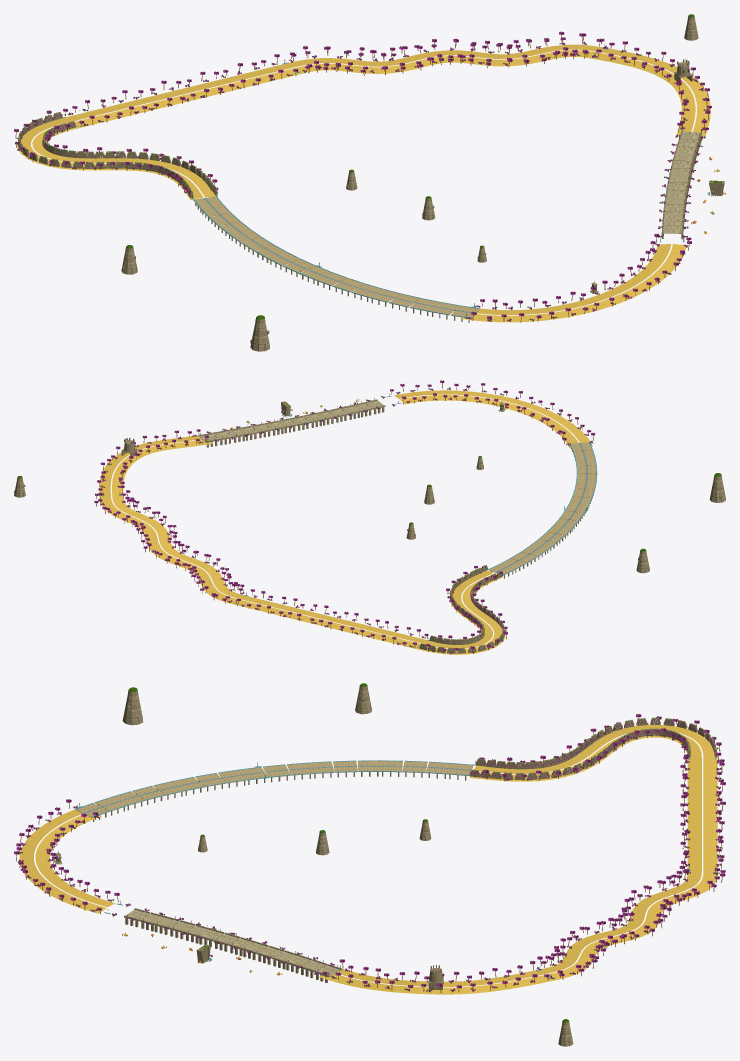
File: painted.glb
The picture shows the model from 3 angles, top to bottom: view 1: azimuth 30°, elevation 25°; view 2: azimuth 150°, elevation 25°; view 3: azimuth 270°, elevation 25°; orthographic projection. The views are drawn at different scales.
Visible parts, largest first — view 1: DI_STATIC_DI_MAT_jungle, DI_STATIC_DI_MAT_concrete, DI_STATIC_DI_MAT_jungle-card, DI_STATIC_DI_MAT_metal; view 2: DI_STATIC_DI_MAT_jungle, DI_STATIC_DI_MAT_concrete, DI_STATIC_DI_MAT_jungle-card, DI_STATIC_DI_MAT_metal; view 3: DI_STATIC_DI_MAT_jungle, DI_STATIC_DI_MAT_concrete, DI_STATIC_DI_MAT_jungle-card, DI_STATIC_DI_MAT_metal.
Boxes of the visible parts, left/top/right/bottom form: DI_STATIC_DI_MAT_jungle: left=15, top=14, right=722, bottom=322; DI_STATIC_DI_MAT_concrete: left=18, top=16, right=724, bottom=351; DI_STATIC_DI_MAT_jungle-card: left=14, top=31, right=714, bottom=321; DI_STATIC_DI_MAT_metal: left=62, top=45, right=701, bottom=317; DI_STATIC_DI_MAT_jungle: left=17, top=383, right=721, bottom=654; DI_STATIC_DI_MAT_concrete: left=14, top=396, right=725, bottom=653; DI_STATIC_DI_MAT_jungle-card: left=94, top=380, right=595, bottom=654; DI_STATIC_DI_MAT_metal: left=103, top=394, right=591, bottom=647; DI_STATIC_DI_MAT_jungle: left=16, top=683, right=723, bottom=1022; DI_STATIC_DI_MAT_concrete: left=54, top=686, right=717, bottom=1046; DI_STATIC_DI_MAT_jungle-card: left=14, top=714, right=725, bottom=992; DI_STATIC_DI_MAT_metal: left=58, top=758, right=716, bottom=978.
Bounding box in the file's own units: 907 × 53.2 × 799.
Materials: 7 (7 with a texture image).
